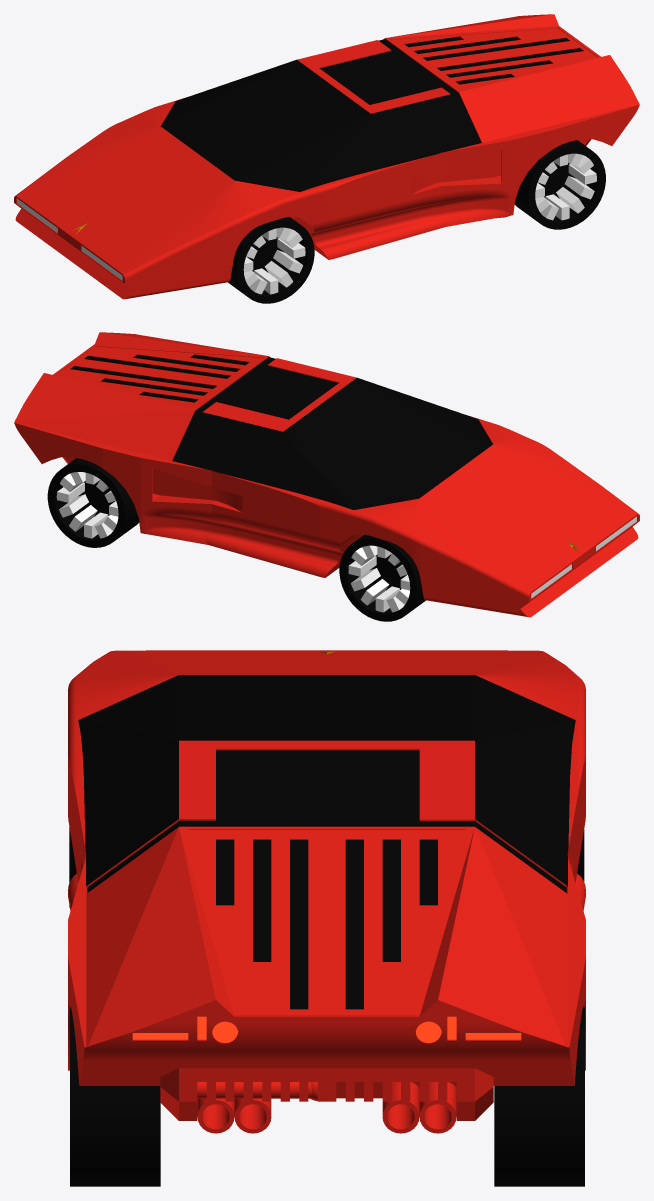
File: lumboready.fbx
3 renders of one model, top to bottom at view 1: azimuth 30°, elevation 25°; view 2: azimuth 150°, elevation 25°; view 3: azimuth 270°, elevation 25°, orthographic. The views are drawn at different scales.
Parts seen in each view (by area): view 1: car body, Tire BL, Tire FL; view 2: car body, Tire BR, Tire FR; view 3: car body, Tire BR, Tire BL.
Boxes of the visible parts, box(x1,y1,x2,y2) form: car body: box(14, 14, 639, 299); Tire BL: box(514, 140, 605, 229); Tire FL: box(228, 216, 314, 303); car body: box(14, 332, 639, 617); Tire BR: box(47, 458, 139, 547); Tire FR: box(339, 534, 425, 621); car body: box(68, 650, 585, 1133); Tire BR: box(494, 1007, 584, 1186); Tire BL: box(70, 1007, 160, 1186).
Bounding box in the file's own units: 6400 × 1658 × 2800.
